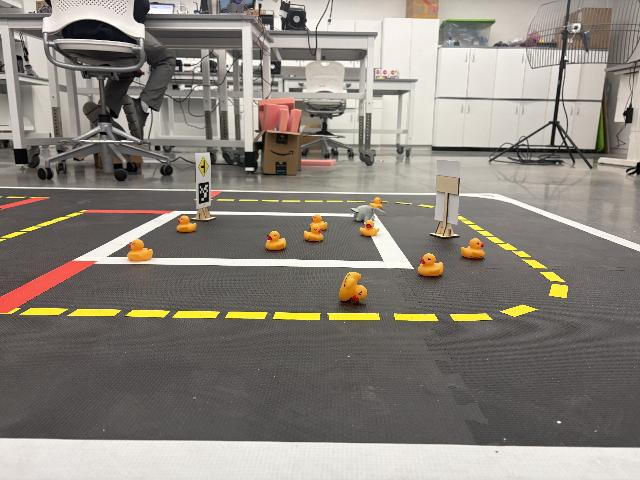duck: (337, 272, 374, 304), (123, 237, 154, 264), (416, 252, 445, 280), (461, 238, 488, 260), (303, 224, 325, 243), (266, 231, 286, 250), (360, 220, 381, 236), (177, 217, 199, 232), (310, 216, 328, 228), (369, 197, 383, 207)
l_intersection: (196, 154, 216, 221)
mouse: (351, 205, 388, 221)
redline: (4, 254, 92, 313), (87, 206, 171, 219), (2, 200, 49, 210), (211, 189, 223, 198)
whiteline: (6, 430, 640, 479), (498, 185, 591, 234), (160, 256, 417, 270), (86, 215, 166, 255), (588, 221, 640, 270), (217, 209, 348, 218), (374, 237, 407, 257)
yellowline: (29, 300, 501, 333), (489, 235, 571, 324), (0, 210, 86, 243), (219, 197, 365, 205), (458, 212, 491, 236), (386, 197, 435, 209)
